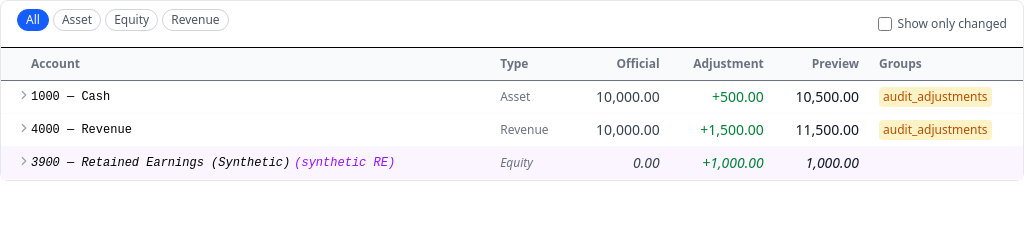
Test: Milestone 18: Draft Overlay Preview › OverlayComparisonTable expand/collapse shows source JE info
Click the button named "Toggle detail".
click(24, 95)  # box [17,88,31,102]
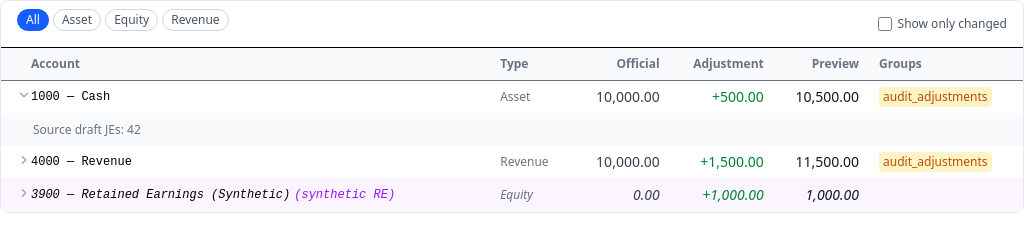
Now the text "Source draft JEs: 42" is shown, box [1,114,1023,146]
